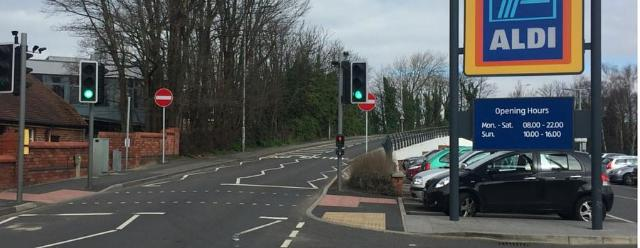B2: (155, 88, 173, 108)
